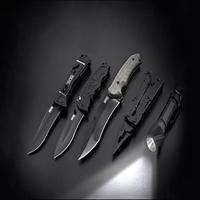knife: (20, 9, 144, 165)
